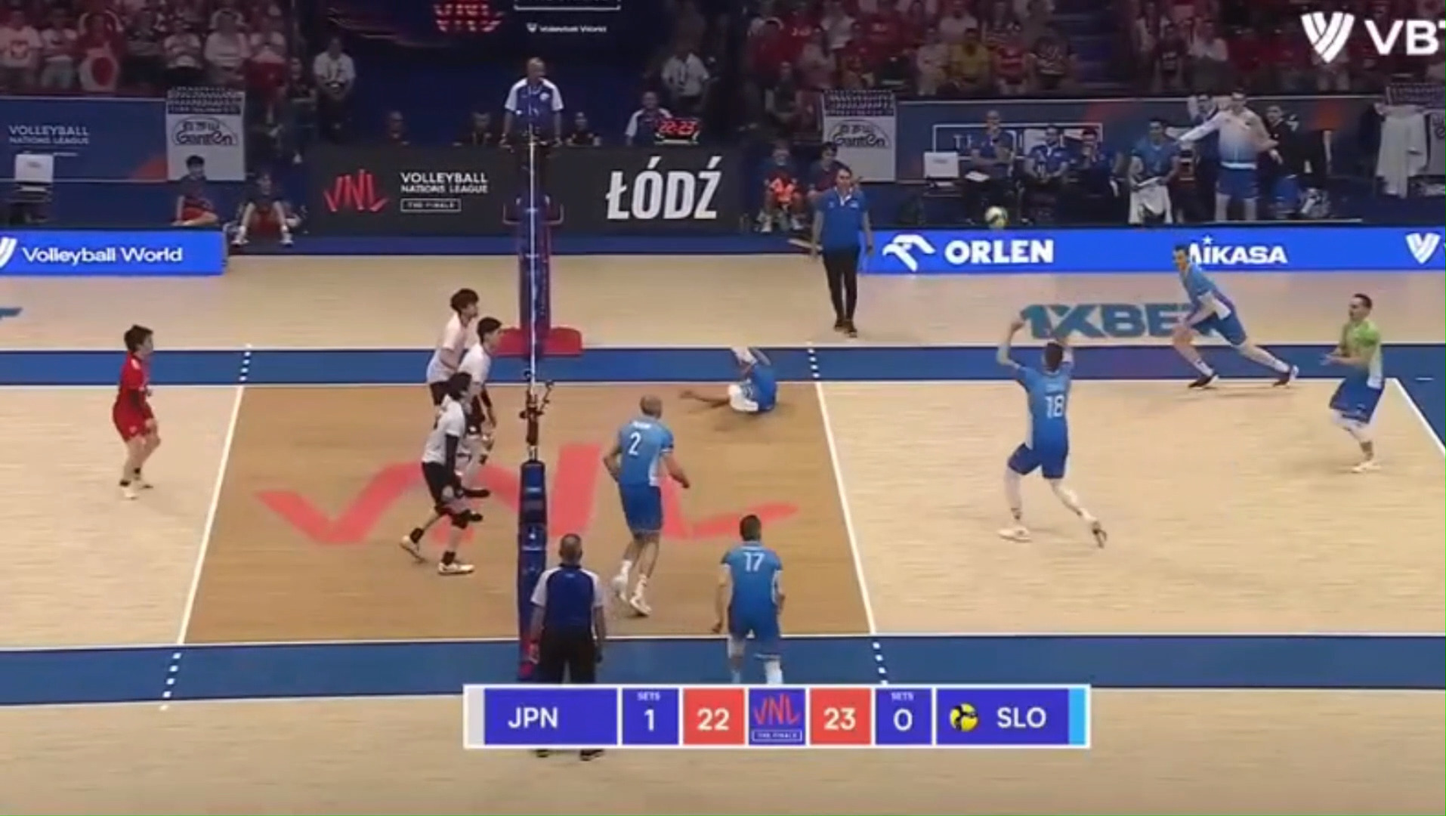ball: (984, 206, 1008, 229)
player: (996, 318, 1107, 546), (602, 394, 690, 617), (1172, 245, 1296, 389), (713, 515, 785, 684), (1325, 293, 1383, 471), (682, 346, 777, 414)
player 1: (419, 370, 487, 574), (112, 324, 160, 498), (459, 317, 500, 478), (426, 288, 478, 406), (401, 527, 425, 561)
referee: (529, 533, 606, 684), (812, 165, 871, 336), (504, 58, 564, 225)
